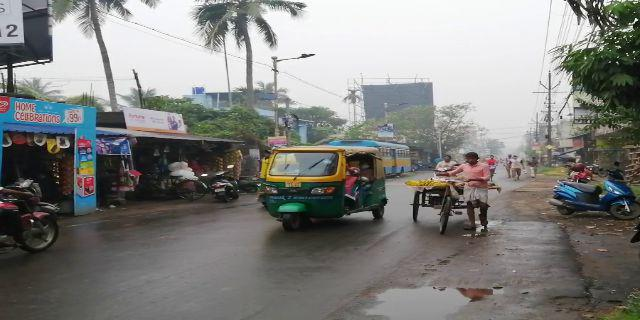Autorickshaw: (261, 147, 387, 228)
Rickshaw: (406, 182, 490, 232)
